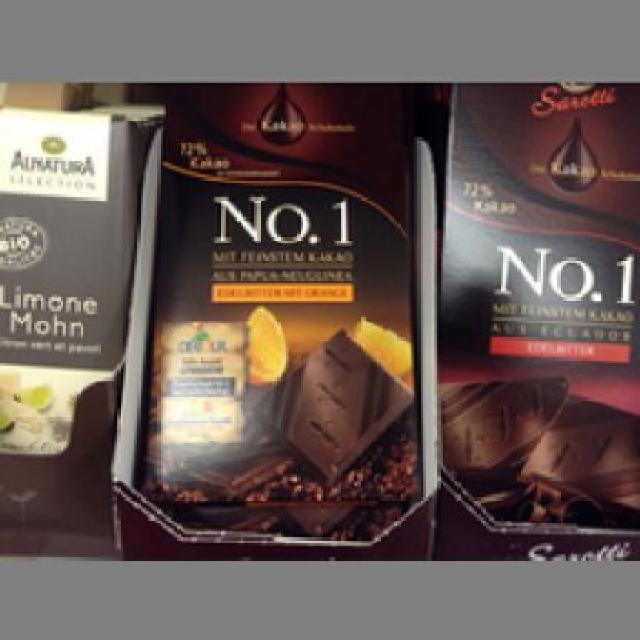Chocolate: (145, 82, 418, 528), (434, 82, 637, 528), (0, 101, 132, 449)
